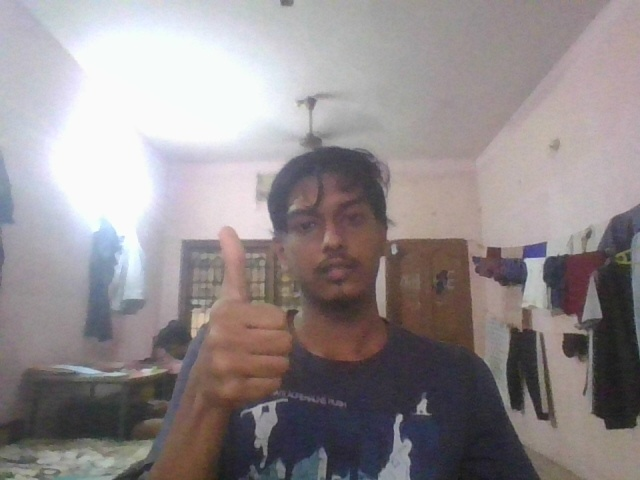thumbsup: (189, 219, 296, 416)
